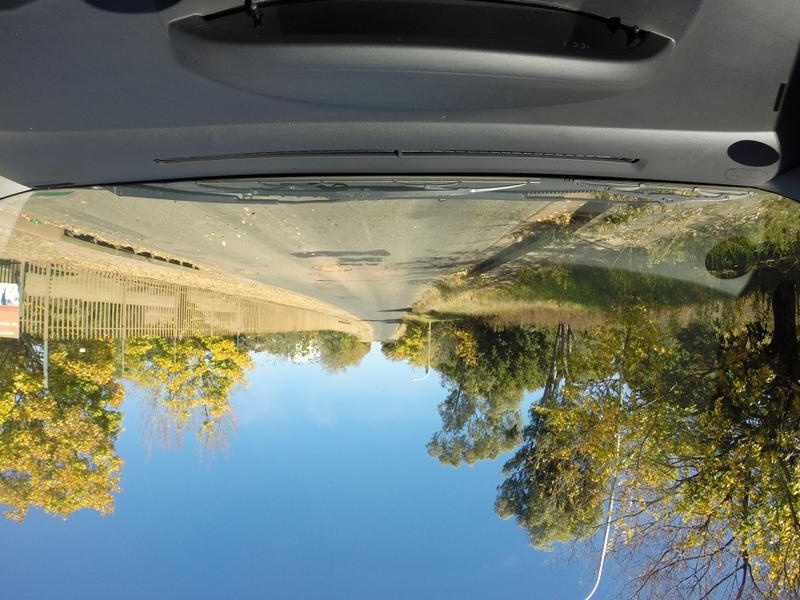pothole: (297, 253, 359, 282)
